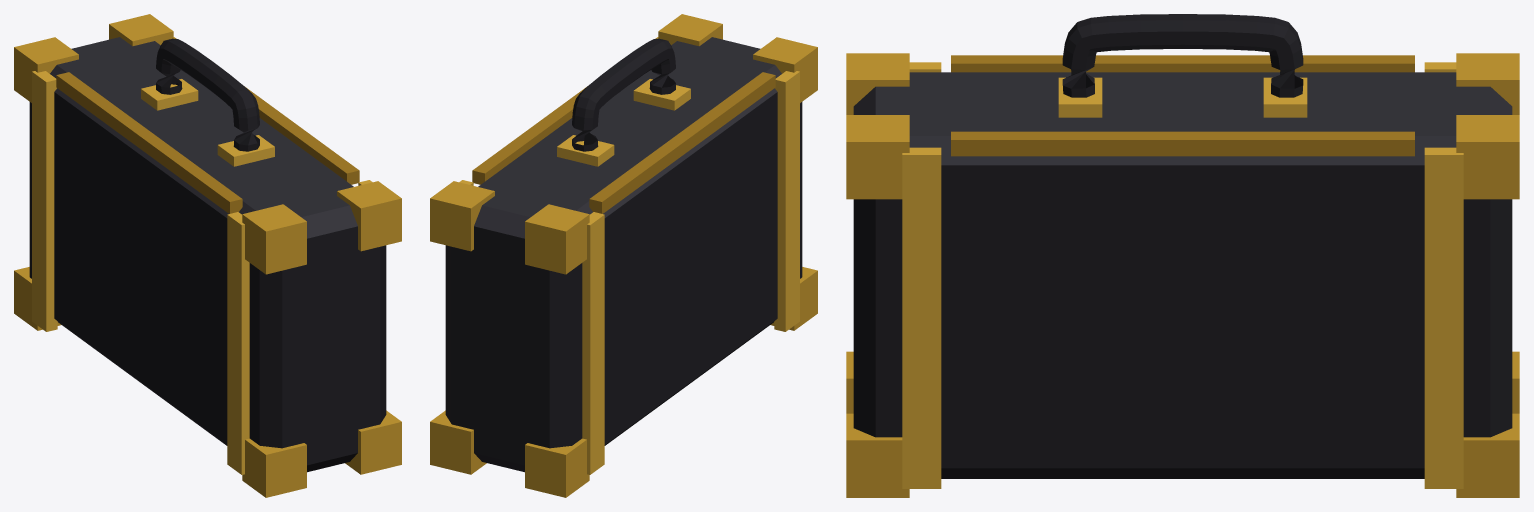
File: MillionaireDad_Props.fbx
3 renders of one model, left to right at view 1: azimuth 30°, elevation 25°; view 2: azimuth 150°, elevation 25°; view 3: azimuth 270°, elevation 25°, orthographic. The views are drawn at different scales.
Parts seen in each view (by area): view 1: Case_Geo.001; view 2: Case_Geo.001; view 3: Case_Geo.001.
Boxes of the visible parts, x1,y1,x2,y2 form: Case_Geo.001: (14,14,401,497); Case_Geo.001: (430,14,817,497); Case_Geo.001: (846,14,1519,497).
Size of the model in its own units: 0.9 by 1.97 by 2.76.
Materials: 1 (1 with a texture image).
